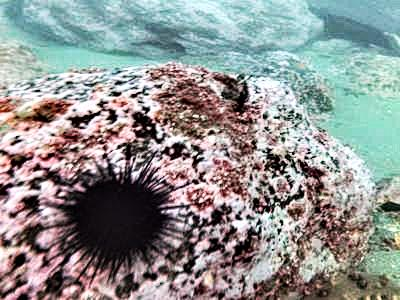urchin: (39, 143, 190, 290)
